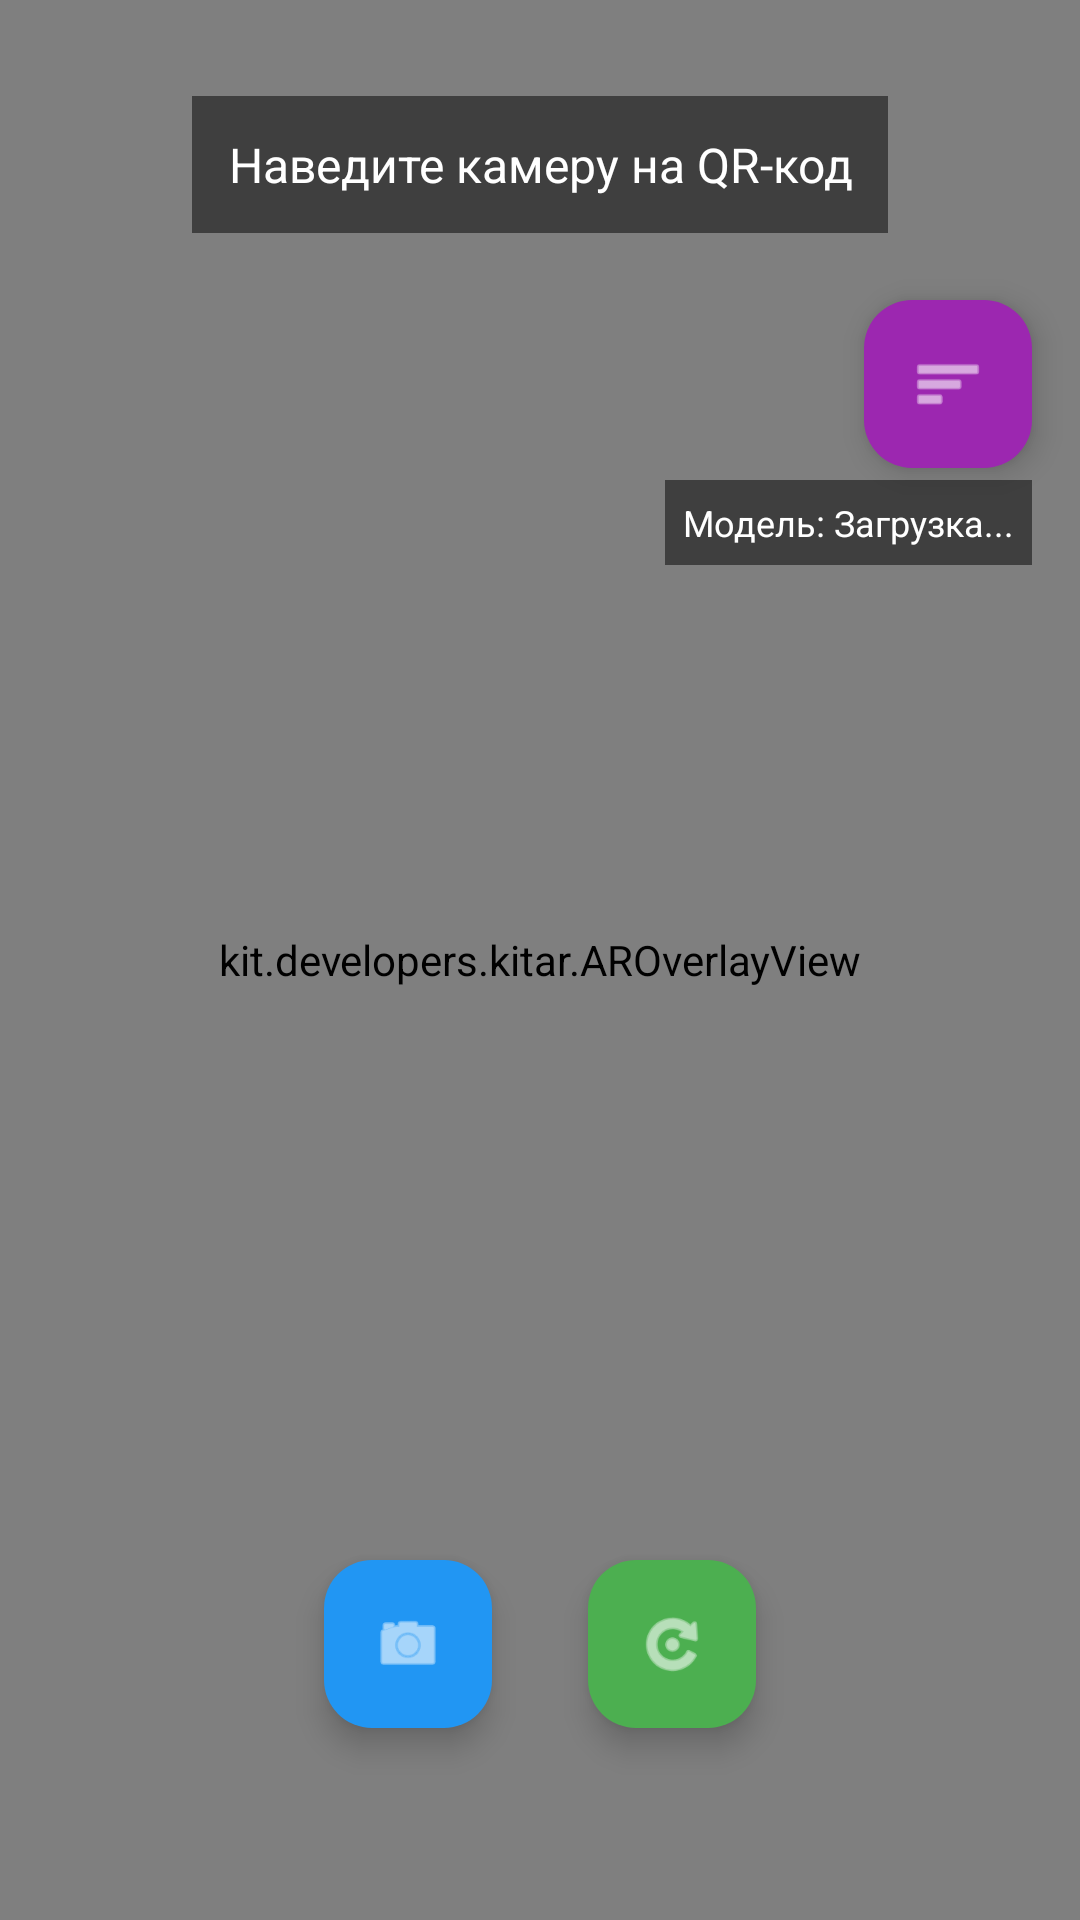

Icons on this 1080px x 1920px Android screen, each with its box as Rect(x1, y1, x2, y2):
Выбрать модель: Rect(864, 300, 1032, 468)
Переключить камеру: Rect(588, 1560, 756, 1728)
Сделать фото: Rect(324, 1560, 492, 1728)
